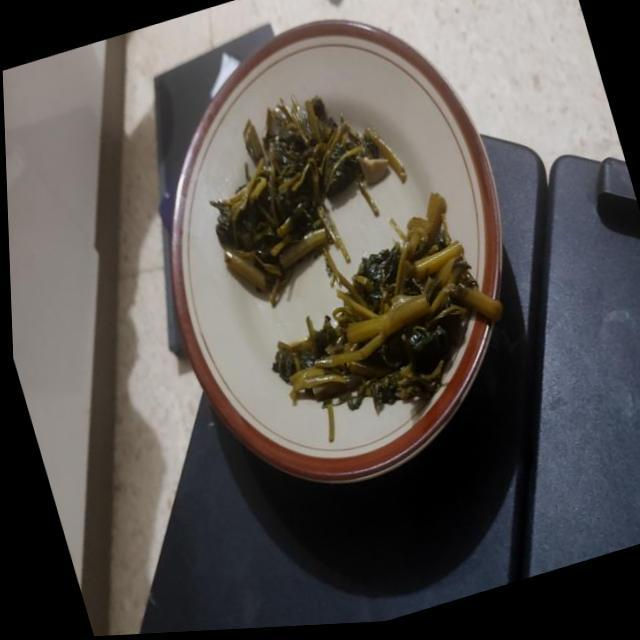tumis_kangkung: (272, 192, 500, 440), (209, 96, 377, 306)
